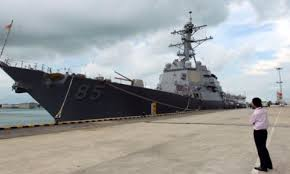tau_muctieu: (2, 29, 252, 110)
